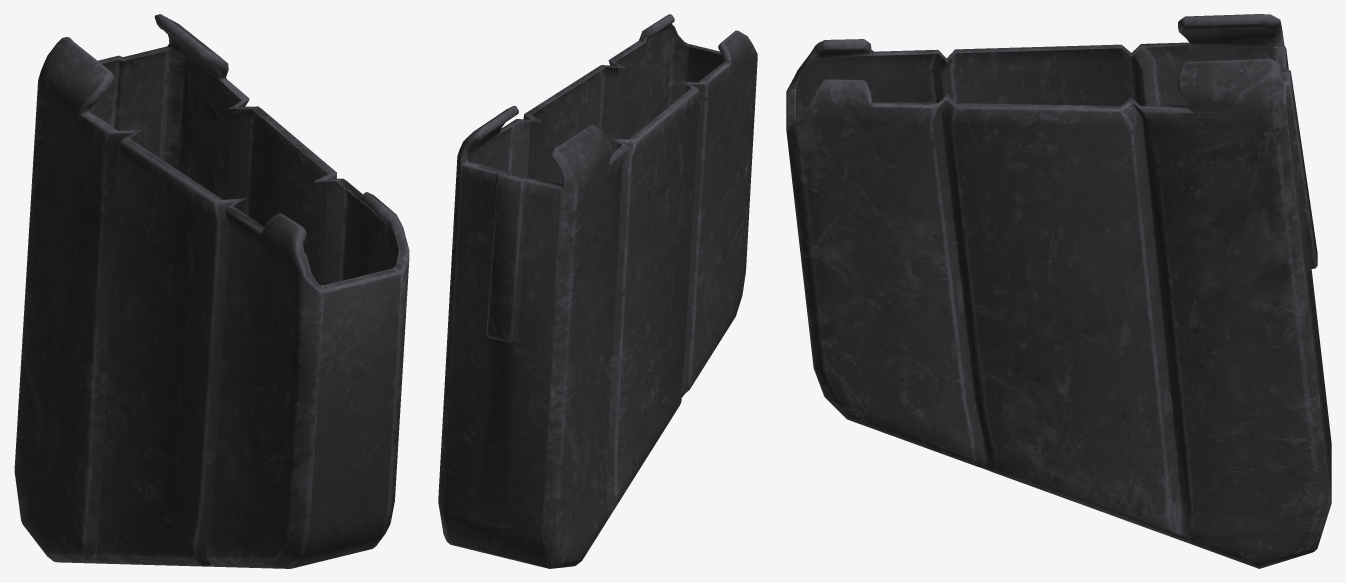
The picture shows the model from 3 angles, left to right: view 1: azimuth 30°, elevation 25°; view 2: azimuth 150°, elevation 25°; view 3: azimuth 270°, elevation 25°; orthographic projection. The views are drawn at different scales.
Parts seen in each view (by area): view 1: Object_4_Baked; view 2: Object_4_Baked; view 3: Object_4_Baked.
Boxes of the visible parts, x1=… form: Object_4_Baked: x1=14, y1=14, x2=409, y2=568; Object_4_Baked: x1=438, y1=14, x2=757, y2=568; Object_4_Baked: x1=786, y1=14, x2=1331, y2=568.
Bounding box in the file's own units: 0.3877 × 1.27 × 1.29.
1 material, 1 textured.
